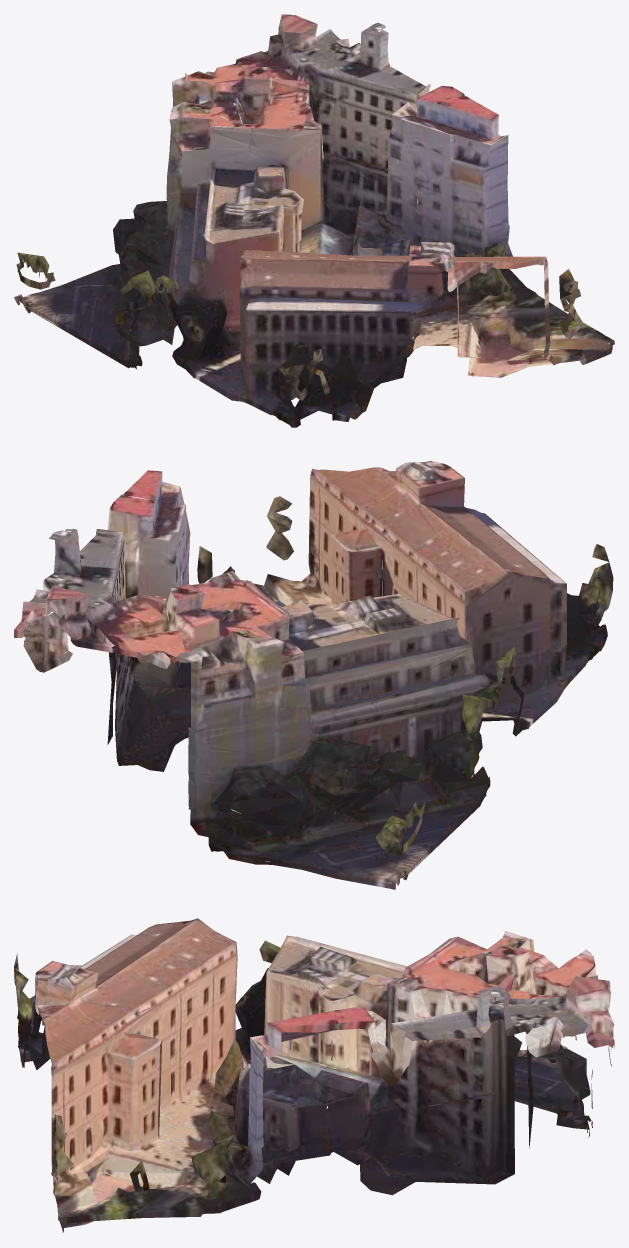
3 renders of one model, top to bottom at view 1: azimuth 30°, elevation 25°; view 2: azimuth 150°, elevation 25°; view 3: azimuth 270°, elevation 25°, orthographic. The views are drawn at different scales.
Parts seen in each view (by area): view 1: Mesh_0; view 2: Mesh_0; view 3: Mesh_0.
Part boxes in pixels (left/top/right/bottom): Mesh_0: left=14, top=14, right=614, bottom=427; Mesh_0: left=14, top=461, right=613, bottom=889; Mesh_0: left=14, top=918, right=614, bottom=1232.
Size of the model in its own units: 67.19 by 37.44 by 82.51.
1 material, 1 textured.
